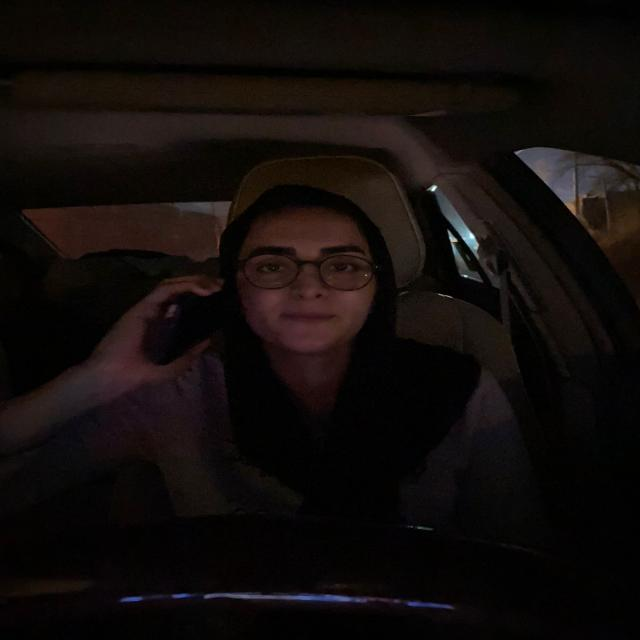mobile: (140, 280, 219, 372)
person: (225, 198, 396, 360)
